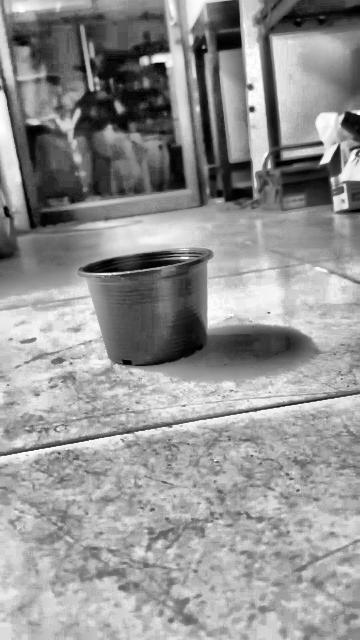pot: (79, 249, 211, 366)
